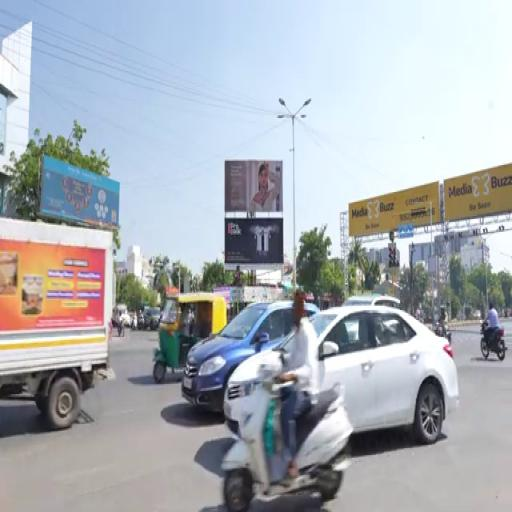Car: (310, 306, 459, 443), (182, 302, 293, 412), (344, 295, 399, 308), (144, 308, 160, 329)
